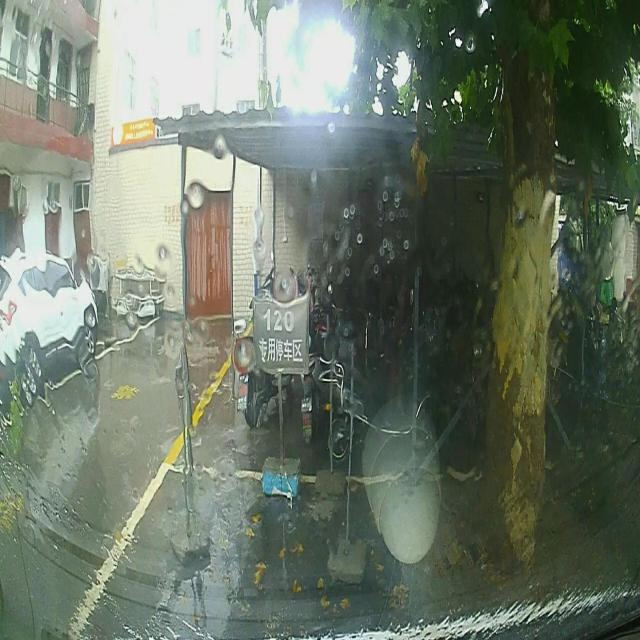car: (0, 254, 97, 390)
